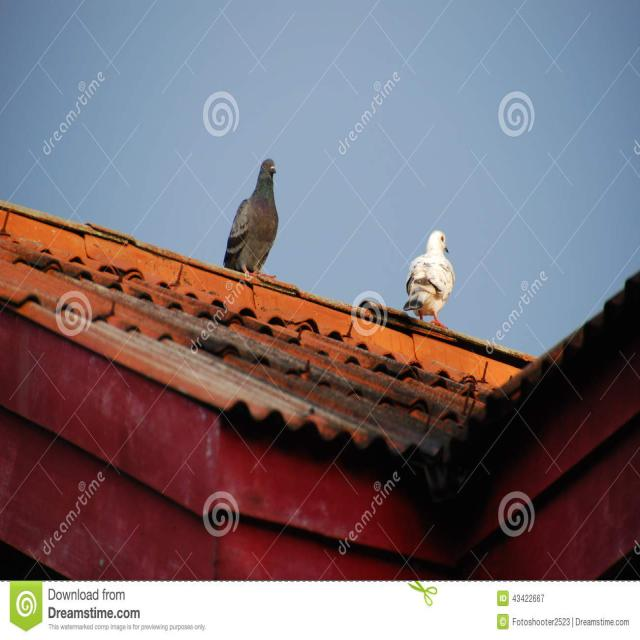bird: (220, 157, 282, 279), (402, 229, 457, 331)
